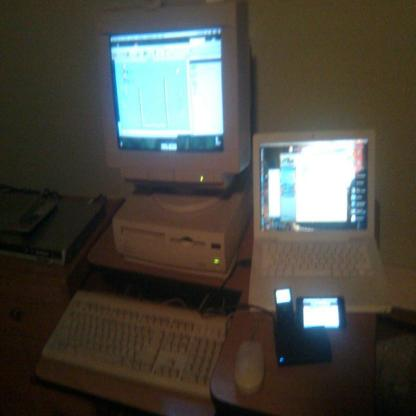board: (249, 129, 391, 313)
